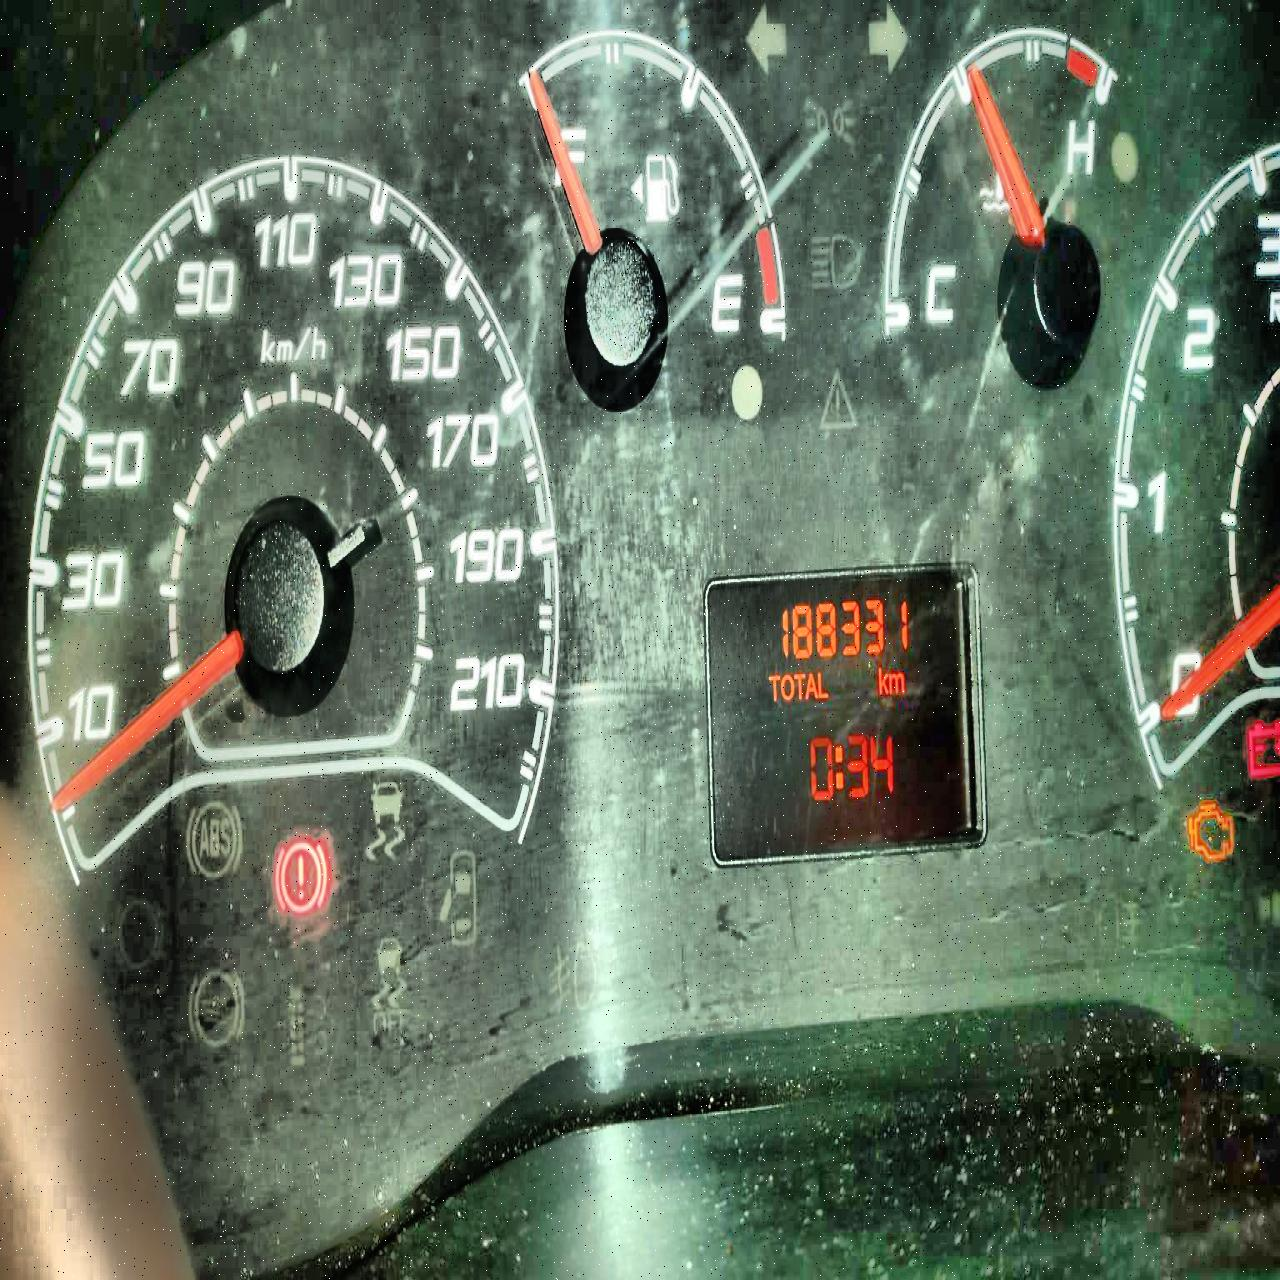0: (809, 735, 833, 801)
1: (781, 606, 789, 658), (900, 598, 908, 648)
3: (845, 732, 868, 798), (840, 600, 860, 655), (864, 598, 884, 652)
4: (869, 732, 893, 794)
8: (815, 602, 836, 656), (792, 603, 812, 658)
X: (834, 745, 844, 790), (780, 672, 794, 701), (804, 671, 818, 699), (793, 671, 805, 701), (888, 671, 904, 693), (768, 672, 780, 701), (817, 669, 828, 698), (878, 666, 888, 694)
odometer: (699, 554, 990, 873)
